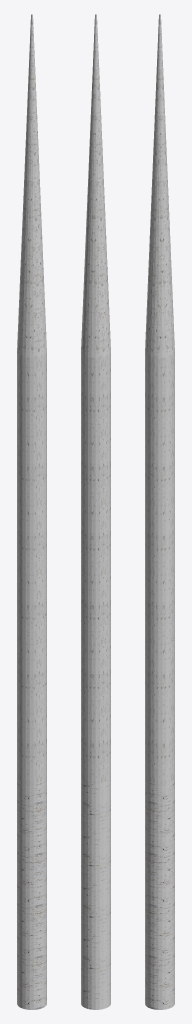
Rendered from whiteTreeTrunk.fbx.
The picture shows the model from 3 angles, left to right: view 1: azimuth 30°, elevation 25°; view 2: azimuth 210°, elevation 25°; view 3: azimuth 330°, elevation 25°; orthographic projection.
Parts seen in each view (by area): view 1: whiteTree; view 2: whiteTree; view 3: whiteTree.
Part boxes in pixels (x1=…): whiteTree: x1=17, y1=14, x2=46, y2=1009; whiteTree: x1=81, y1=14, x2=110, y2=1009; whiteTree: x1=145, y1=14, x2=174, y2=1009.
Size of the model in its own units: 200 by 7253 by 199.
